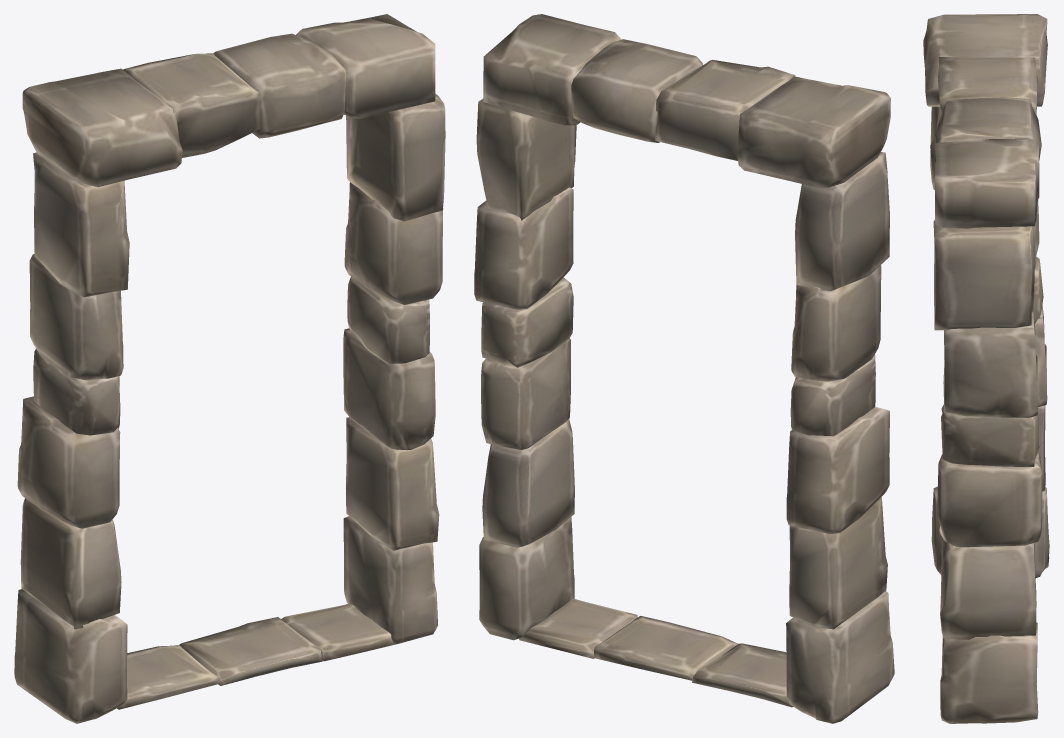
The model's file is gate-qm-doorframeflatbrick.glb.
The picture shows the model from 3 angles, left to right: view 1: azimuth 30°, elevation 25°; view 2: azimuth 150°, elevation 25°; view 3: azimuth 270°, elevation 25°; orthographic projection. The views are drawn at different scales.
Parts seen in each view (by area): view 1: Cube_017_Retopology_014; view 2: Cube_017_Retopology_014; view 3: Cube_017_Retopology_014.
Part boxes in pixels (x1,y1,x2,y2): Cube_017_Retopology_014: (14,14,445,723); Cube_017_Retopology_014: (474,14,894,723); Cube_017_Retopology_014: (923,14,1049,723).
Size of the model in its own units: 1.57 by 2.38 by 0.4943.
1 material, 1 textured.
